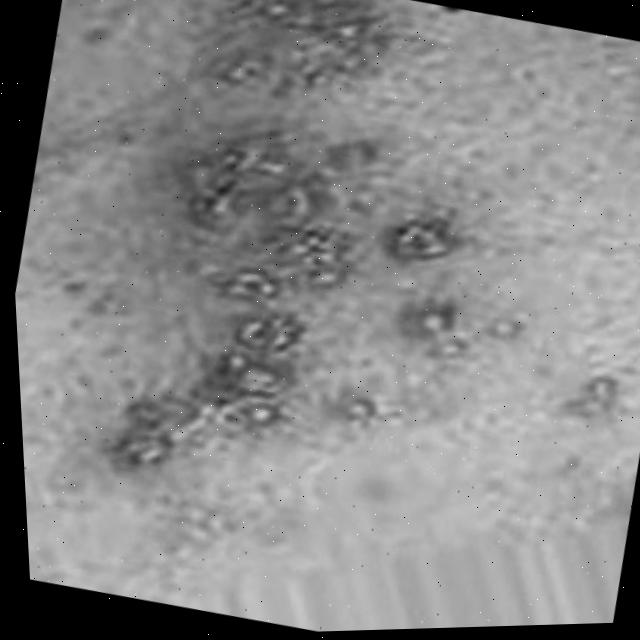Shingles: (109, 129, 455, 503), (201, 0, 393, 110)
